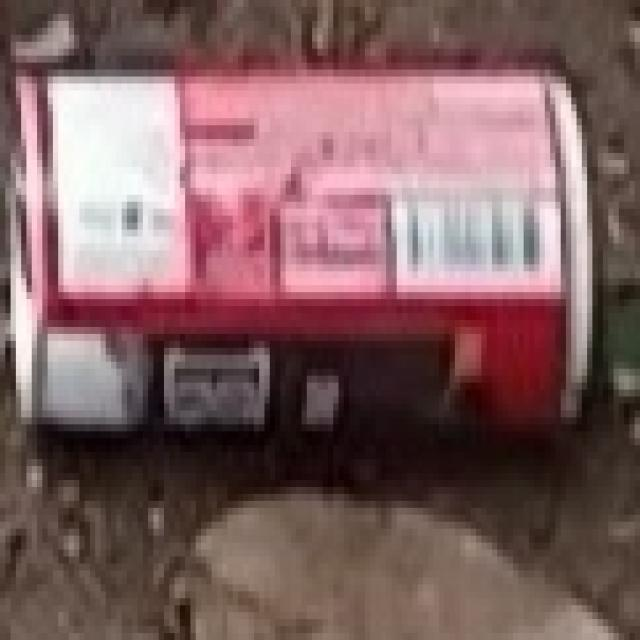can: (0, 0, 640, 452)
